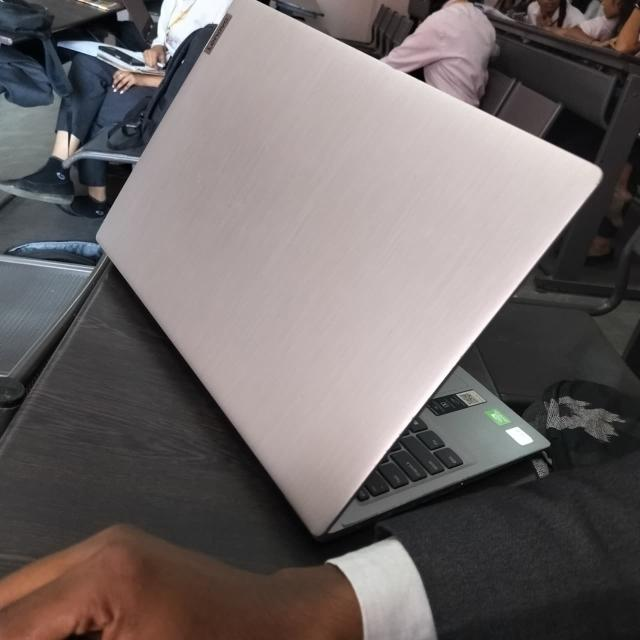laptop: (76, 12, 612, 508)
